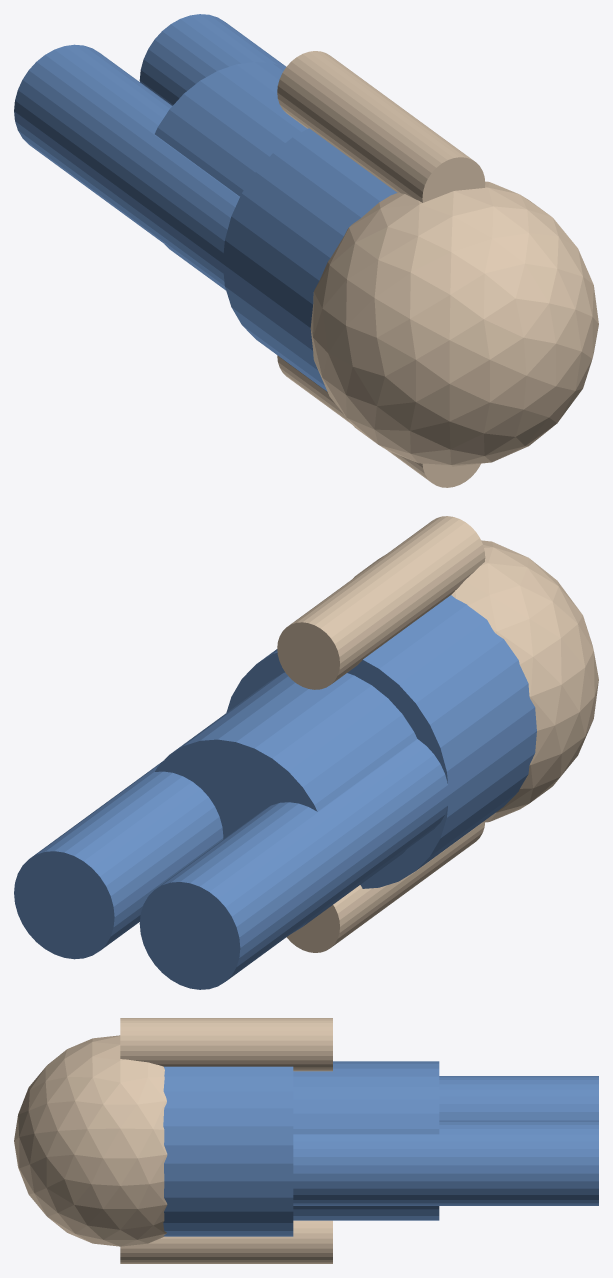
The model's file is passenger.glb.
3 views of the same model, one above another, from view 1: azimuth 30°, elevation 25°; view 2: azimuth 150°, elevation 25°; view 3: azimuth 270°, elevation 25° (orthographic). The views are drawn at different scales.
Parts seen in each view (by area): view 1: geometry_0, geometry_5, geometry_1, geometry_2, geometry_3; view 2: geometry_5, geometry_1, geometry_3, geometry_2, geometry_0, geometry_4; view 3: geometry_5, geometry_0, geometry_1, geometry_2, geometry_3.
Boxes of the visible parts, left/top/right/bottom form: geometry_0: left=310, top=181, right=598, bottom=466; geometry_5: left=14, top=14, right=285, bottom=288; geometry_1: left=222, top=128, right=396, bottom=391; geometry_2: left=277, top=51, right=485, bottom=487; geometry_3: left=155, top=62, right=307, bottom=290; geometry_5: left=14, top=739, right=457, bottom=989; geometry_1: left=226, top=595, right=536, bottom=888; geometry_3: left=155, top=672, right=417, bottom=933; geometry_2: left=277, top=516, right=485, bottom=952; geometry_0: left=353, top=540, right=598, bottom=822; geometry_4: left=195, top=782, right=278, bottom=839; geometry_5: left=280, top=1076, right=598, bottom=1205; geometry_0: left=14, top=1035, right=167, bottom=1246; geometry_1: left=163, top=1066, right=293, bottom=1236; geometry_2: left=120, top=1018, right=332, bottom=1263; geometry_3: left=293, top=1061, right=439, bottom=1220.
Size of the model in its own units: 0.4 by 0.5 by 1.1.
